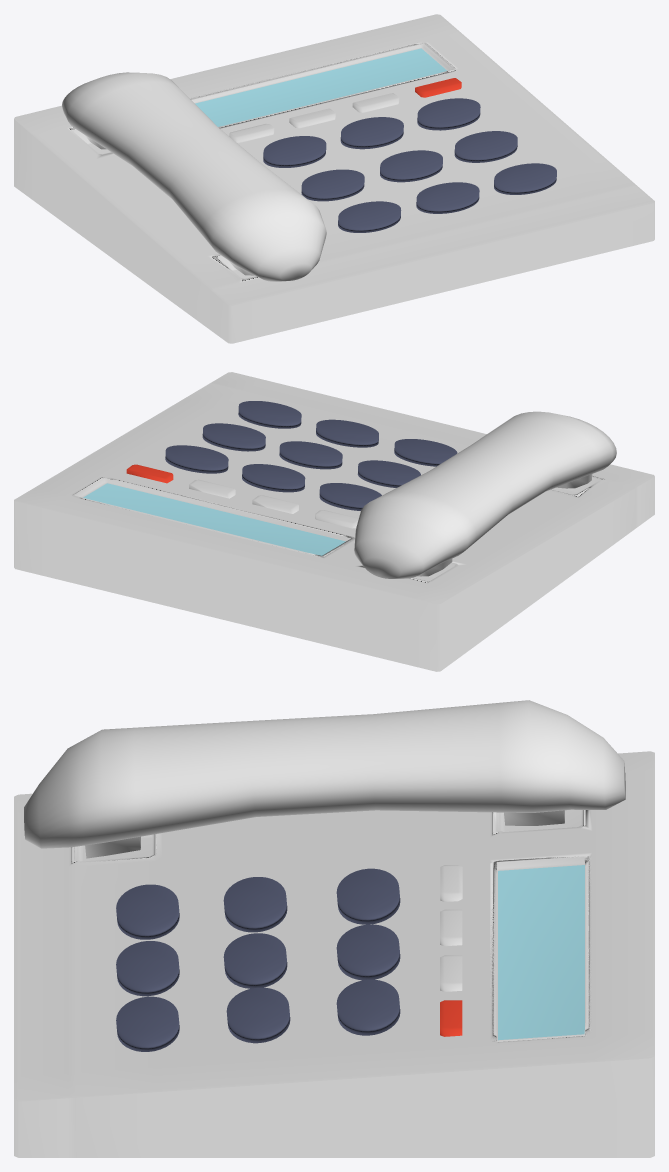
File: 電話機.fbx
3 views of the same model, one above another, from view 1: azimuth 30°, elevation 25°; view 2: azimuth 150°, elevation 25°; view 3: azimuth 270°, elevation 25° (orthographic). The views are drawn at different scales.
Visible parts, largest first — view 1: 立方体, 円; view 2: 立方体, 円; view 3: 立方体, 円.
Part boxes in pixels (x1,y1,x2,y2): 立方体: (14,14,654,343); 円: (62,72,326,281); 立方体: (14,372,654,671); 円: (354,411,616,578); 立方体: (14,751,654,1157); 円: (24,700,625,858).
Bounding box in the file's own units: 227 × 63.22 × 200.
